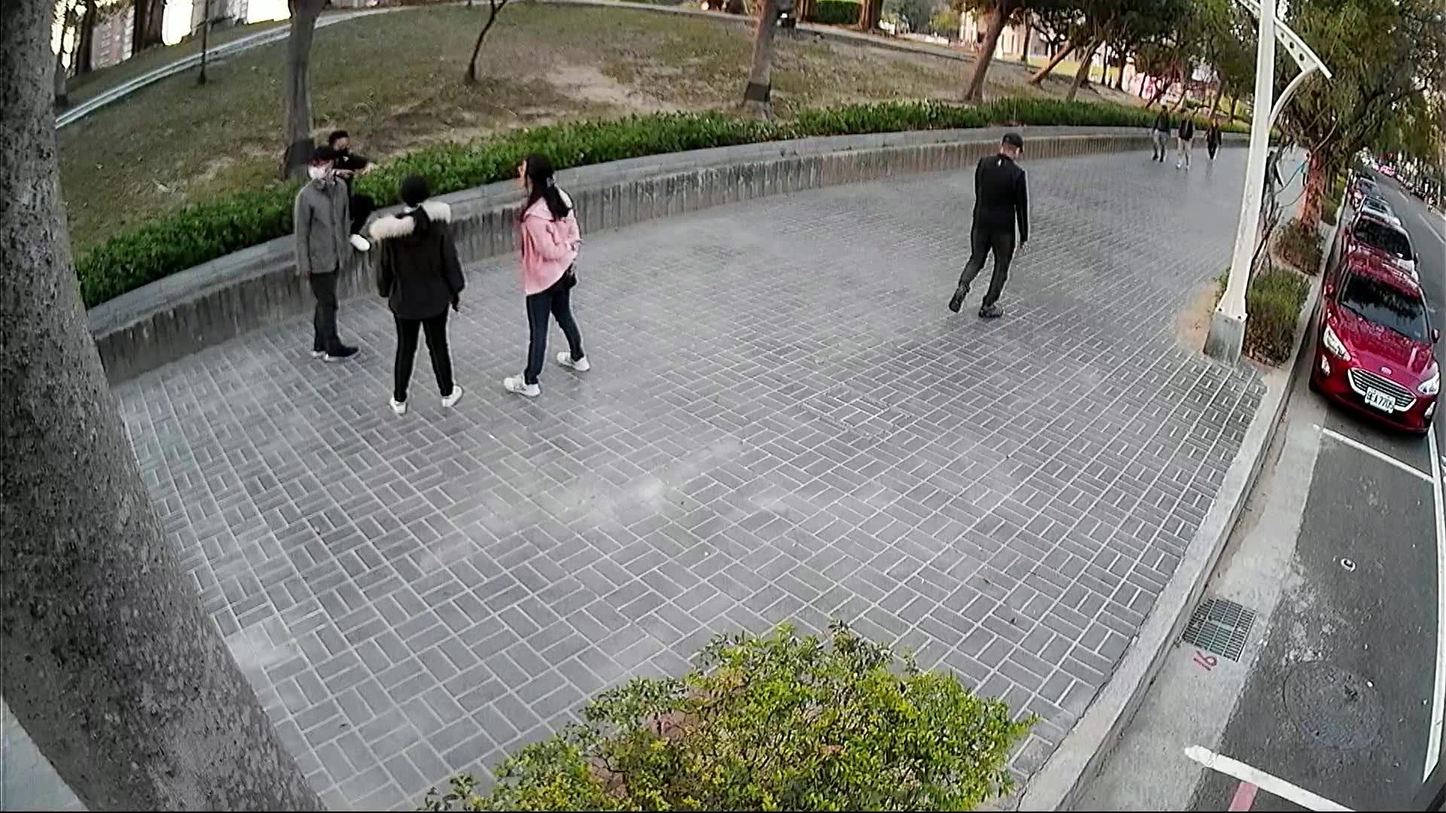person: (361, 171, 470, 417), (492, 146, 593, 398), (944, 122, 1031, 322), (288, 139, 364, 364), (324, 123, 381, 254), (1255, 145, 1286, 215), (1170, 106, 1194, 168), (1147, 99, 1170, 162), (1200, 114, 1222, 159), (1295, 148, 1310, 190)
